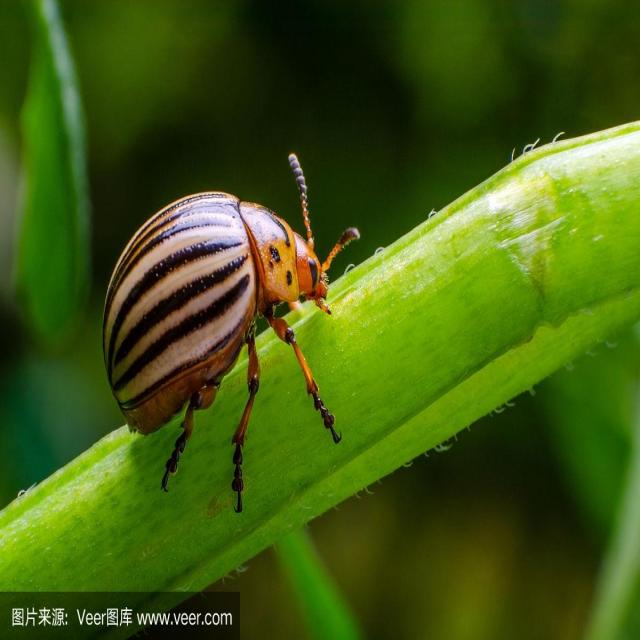ShuCaiHuaBanChong-Grown-: (82, 143, 355, 444)
